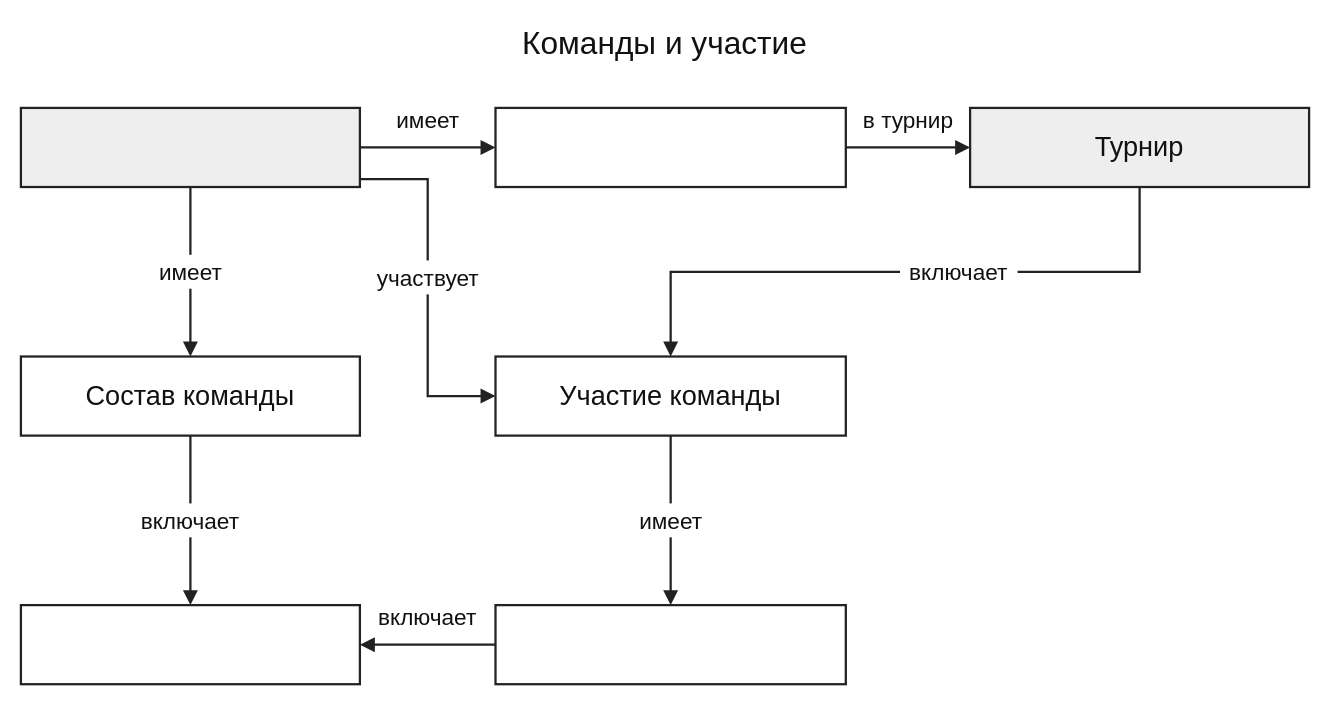
This 1329x704 diagram has some shape labels left out. Each missing label, with the centre of its shape:
"Заявка команды" belongs at pixel 670 147.
"Команда" belongs at pixel 189 147.
"Состав на турнир" belongs at pixel 670 644.
"Футболист" belongs at pixel 189 644.
